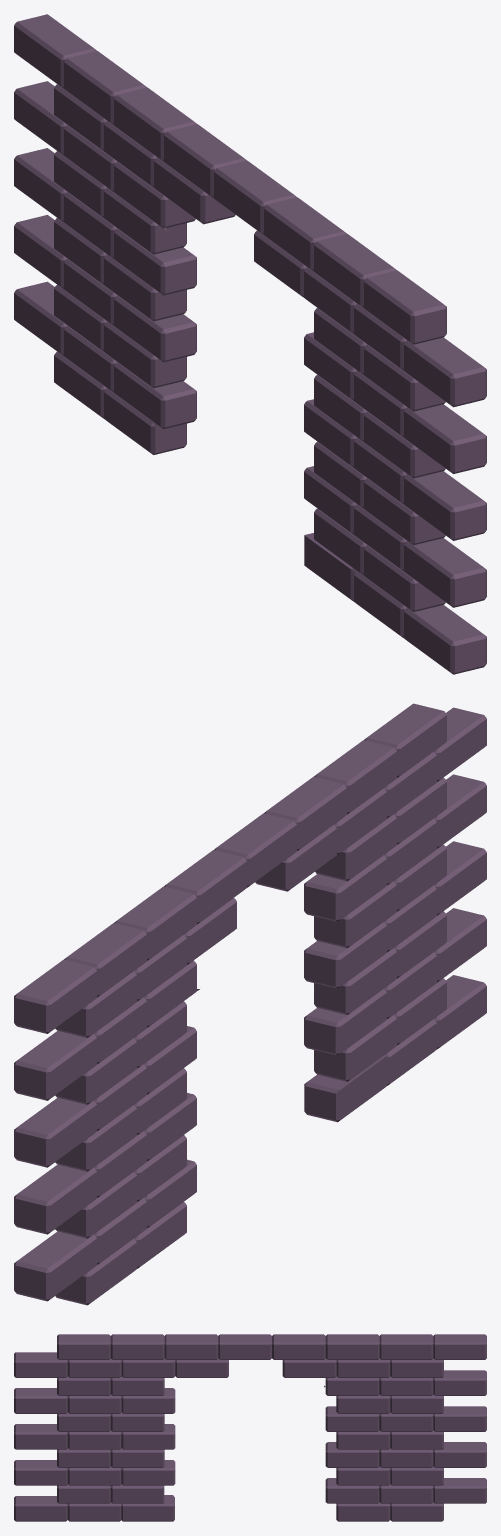
File: walldoor.fbx
3 renders of one model, top to bottom at view 1: azimuth 30°, elevation 25°; view 2: azimuth 150°, elevation 25°; view 3: azimuth 270°, elevation 25°, orthographic. The views are drawn at different scales.
Parts seen in each view (by area): view 1: Cube; view 2: Cube; view 3: Cube.
Boxes of the visible parts, x1,y1,x2,y2 form: Cube: (14,14,486,674); Cube: (14,703,486,1305); Cube: (14,1334,486,1521).
Size of the model in its own units: 17.63 by 154 by 367.
